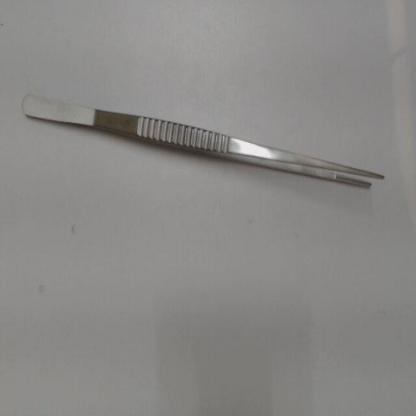DeBakey Dissector: (9, 72, 398, 199)
